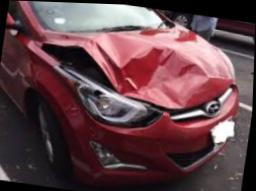Bonnet: (30, 21, 235, 107)
Bumper: (71, 83, 242, 181)
Fender: (12, 40, 93, 167)
